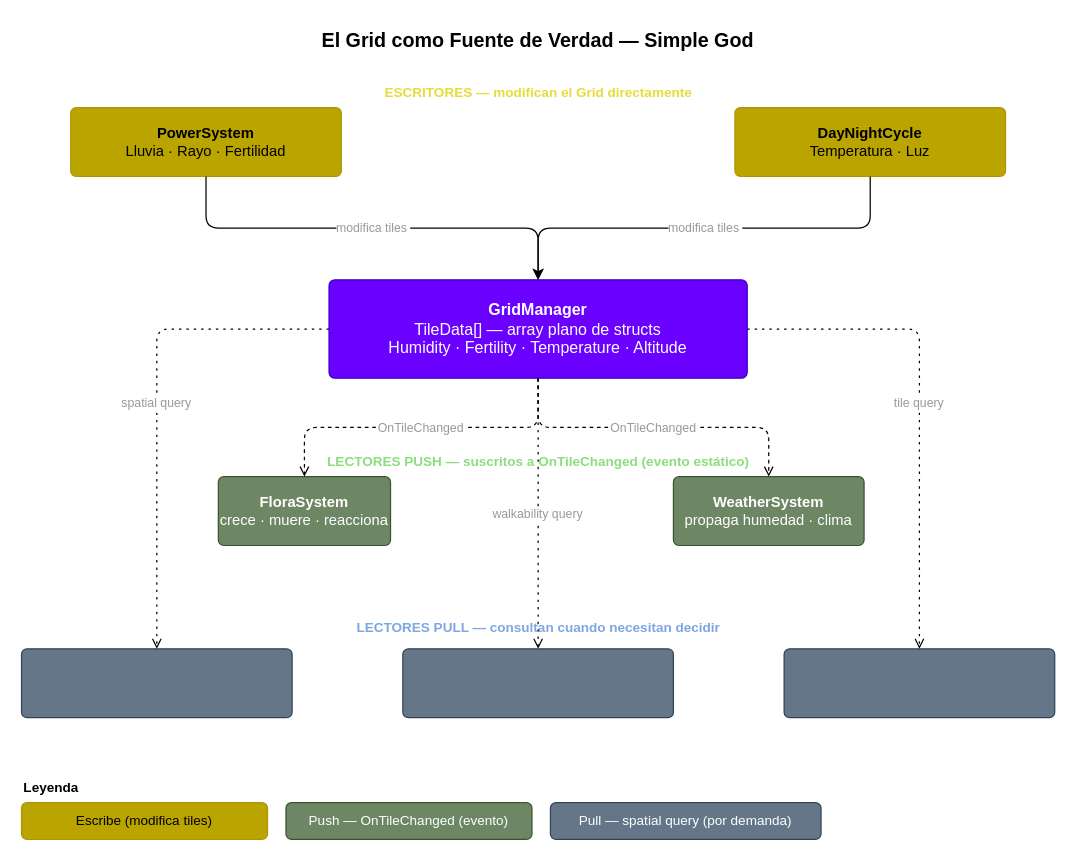
This 1076x861 diagram has some shape labels left out. Here are the shapes that lost their labels. From the top down, the centre of each, then its label:
At pixel 156 683: "AIManager GetTilesInRadius(pos, range)".
At pixel 537 683: "Pathfinder IsWalkable(pos)".
At pixel 919 683: "Debug UI GetTile(pos) — visualización".
